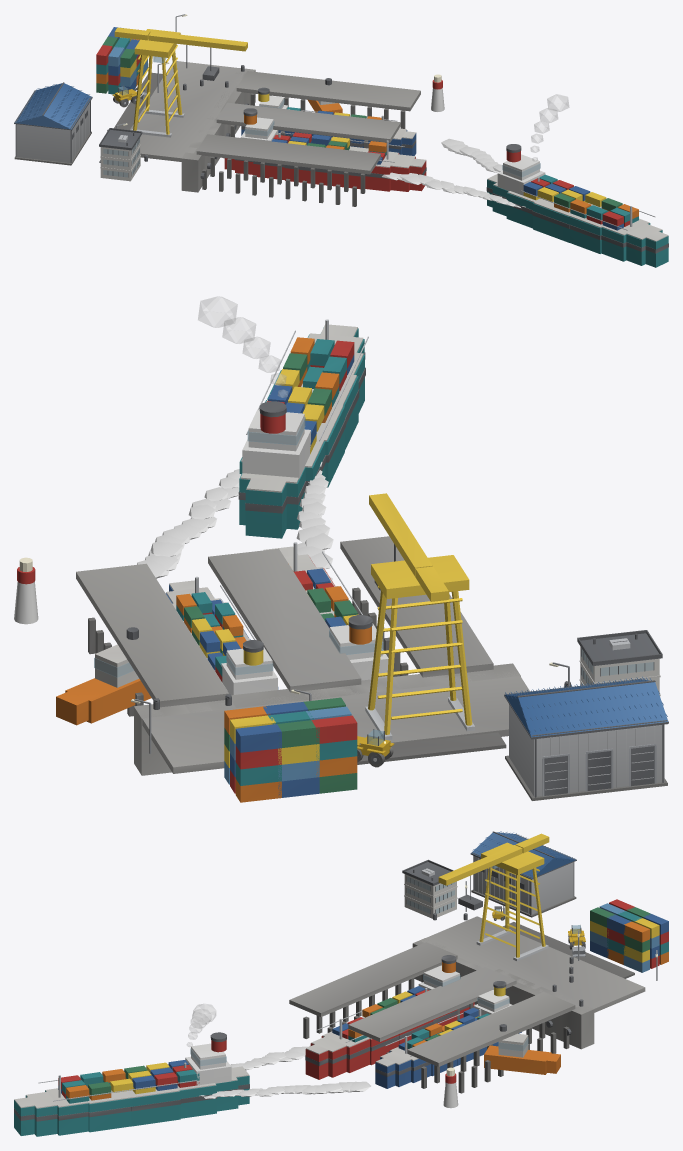
The model's file is Port_P3.fbx.
3 renders of one model, top to bottom at view 1: azimuth 30°, elevation 25°; view 2: azimuth 150°, elevation 25°; view 3: azimuth 270°, elevation 25°, orthographic. The views are drawn at different scales.
Parts seen in each view (by area): view 1: Port.ShipOut, Port.Apron, Port.Pier0, Port.Ship0, Port.Shed, Port.Pier2, Port.Crane0, Port.Pier1, Port.Containers, Port.Control, Port.QuayWall, Port.Wake (+4 smaller); view 2: Port.ShipOut, Port.Shed, Port.Apron, Port.Containers, Port.Pier2, Port.Pier1, Port.Crane0, Port.Pier0, Port.Ship1, Port.Wake, Port.QuayWall, Port.Ship0 (+5 smaller); view 3: Port.ShipOut, Port.Apron, Port.Pier2, Port.Ship0, Port.Pier0, Port.Crane0, Port.Shed, Port.Containers, Port.Pier1, Port.Ship1, Port.QuayWall, Port.Control (+5 smaller).
Part boxes in pixels (x1,y1,x2,y2): Port.ShipOut: [486, 144, 668, 267]; Port.Apron: [114, 61, 246, 161]; Port.Pier0: [196, 134, 380, 206]; Port.Ship0: [224, 108, 426, 191]; Port.Shed: [14, 82, 92, 165]; Port.Pier2: [236, 71, 420, 128]; Port.Crane0: [114, 27, 247, 137]; Port.Pier1: [216, 102, 400, 158]; Port.Containers: [96, 27, 147, 94]; Port.Control: [99, 128, 142, 181]; Port.QuayWall: [181, 68, 255, 192]; Port.Wake: [382, 138, 525, 207]; Port.ShipOut: [238, 319, 368, 538]; Port.Shed: [504, 676, 668, 800]; Port.Apron: [139, 671, 529, 773]; Port.Containers: [224, 697, 357, 802]; Port.Pier2: [76, 563, 228, 716]; Port.Pier1: [208, 548, 361, 692]; Port.Crane0: [365, 493, 474, 740]; Port.Pier0: [340, 536, 493, 677]; Port.Ship1: [165, 576, 278, 695]; Port.Wake: [137, 462, 333, 580]; Port.QuayWall: [134, 663, 520, 775]; Port.Ship0: [264, 542, 388, 680]; Port.ShipOut: [14, 1032, 249, 1136]; Port.Apron: [420, 916, 645, 1012]; Port.Pier2: [407, 992, 575, 1093]; Port.Ship0: [305, 955, 474, 1079]; Port.Pier0: [289, 942, 457, 1038]; Port.Crane0: [438, 833, 549, 961]; Port.Shed: [470, 831, 576, 917]; Port.Containers: [590, 899, 668, 972]; Port.Pier1: [348, 967, 516, 1053]; Port.Ship1: [375, 981, 521, 1088]; Port.QuayWall: [412, 938, 594, 1049]; Port.Control: [402, 859, 457, 918].
Bounding box in the file's own units: 14245 × 4118 × 17618.
